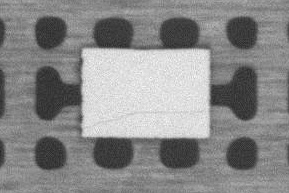DIE_CRACK: (88, 109, 207, 127)
